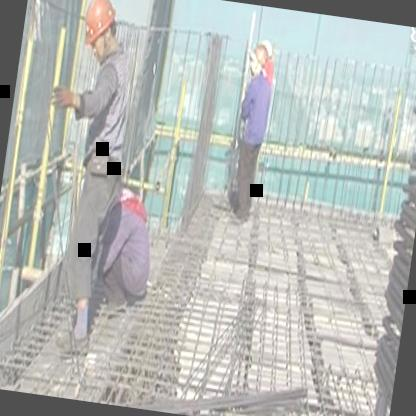helmet: (73, 0, 126, 70)
